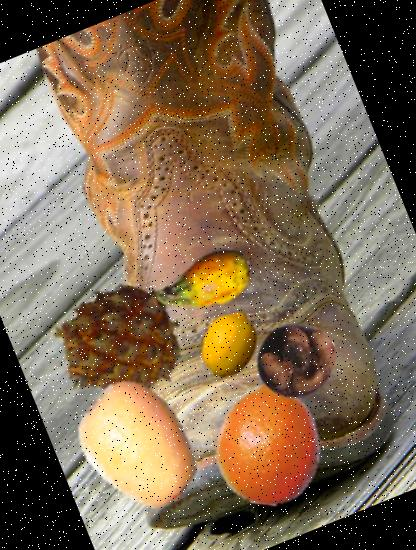Cactus: (136, 216, 270, 351)
Kumquats: (53, 359, 224, 530)
Lemon: (186, 300, 273, 387)
Mangostan: (243, 306, 351, 414)
Pineapple: (37, 260, 200, 423)
Tangelo: (190, 363, 350, 522)
